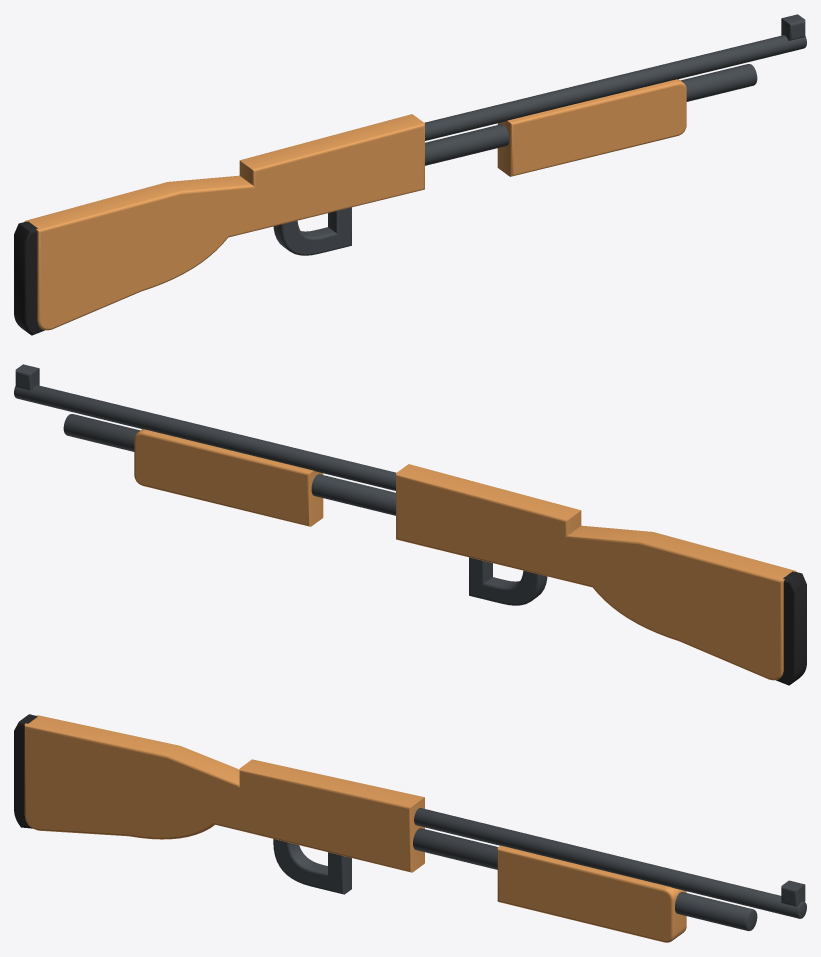
Rendered from nova.glb.
The picture shows the model from 3 angles, top to bottom: view 1: azimuth 30°, elevation 25°; view 2: azimuth 150°, elevation 25°; view 3: azimuth 330°, elevation 25°; orthographic projection.
Parts seen in each view (by area): view 1: paint_0, paint_2, paint_6, metal_4, metal_5, poly_1, metal_3; view 2: paint_0, paint_2, paint_6, metal_4, metal_5, poly_1, metal_3; view 3: paint_0, paint_2, paint_6, metal_4, metal_5, metal_3, poly_1, metal_7.
Part boxes in pixels (left/top/right/bottom): paint_0: left=24, top=175, right=259, bottom=330; paint_2: left=239, top=114, right=424, bottom=230; paint_6: left=497, top=79, right=686, bottom=176; metal_4: left=424, top=35, right=806, bottom=140; metal_5: left=425, top=64, right=757, bottom=165; poly_1: left=14, top=221, right=44, bottom=335; metal_3: left=273, top=207, right=351, bottom=255; paint_0: left=561, top=525, right=796, bottom=680; paint_2: left=396, top=464, right=581, bottom=580; paint_6: left=134, top=429, right=323, bottom=526; metal_4: left=14, top=385, right=396, bottom=490; metal_5: left=63, top=414, right=395, bottom=515; poly_1: left=776, top=571, right=806, bottom=685; metal_3: left=469, top=557, right=547, bottom=605; paint_0: left=24, top=715, right=244, bottom=839; paint_2: left=239, top=759, right=424, bottom=872; paint_6: left=497, top=845, right=686, bottom=942; metal_4: left=414, top=808, right=806, bottom=918; metal_5: left=413, top=828, right=757, bottom=931; metal_3: left=273, top=839, right=351, bottom=894; poly_1: left=14, top=714, right=37, bottom=828; metal_7: left=781, top=880, right=805, bottom=906.
Bounding box in the file's own units: 401 × 61.48 × 13.
